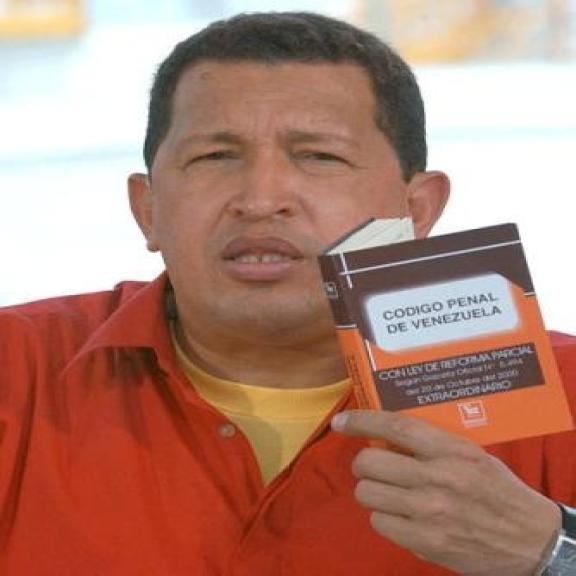face: (120, 45, 458, 353)
